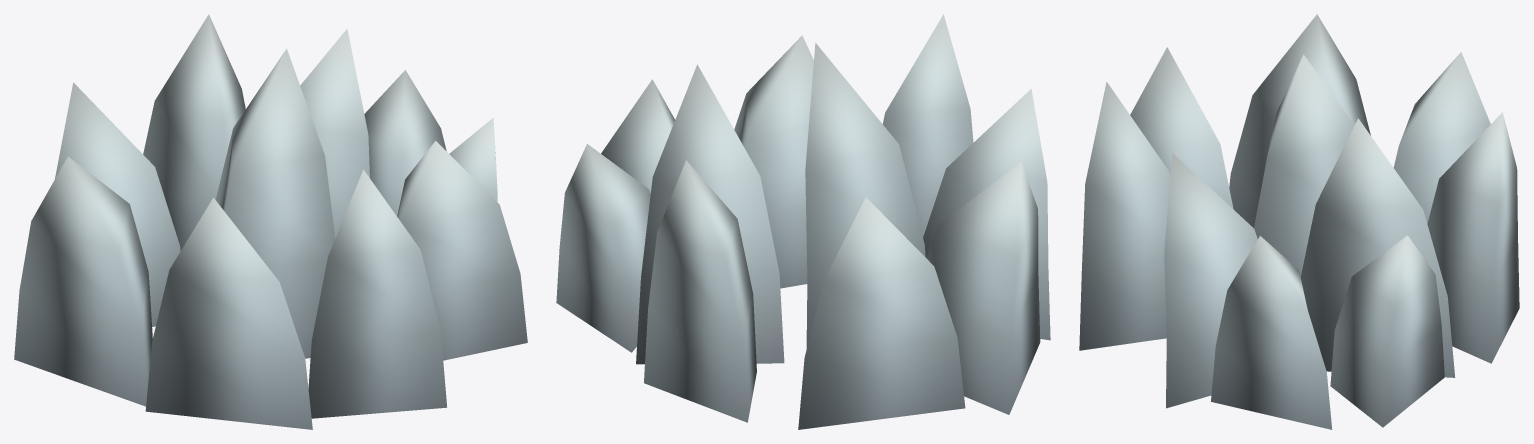
Rendered from TopGrass_Snow_TuftBig.fbx.
The picture shows the model from 3 angles, left to right: view 1: azimuth 30°, elevation 25°; view 2: azimuth 150°, elevation 25°; view 3: azimuth 270°, elevation 25°; orthographic projection. The views are drawn at different scales.
Visible parts, largest first — view 1: TopGrass_Snow_TuftBig_LOD0; view 2: TopGrass_Snow_TuftBig_LOD0; view 3: TopGrass_Snow_TuftBig_LOD0.
Part boxes in pixels (<box>): TopGrass_Snow_TuftBig_LOD0: <box>14,14,527,429</box>; TopGrass_Snow_TuftBig_LOD0: <box>556,14,1050,429</box>; TopGrass_Snow_TuftBig_LOD0: <box>1079,14,1519,429</box>.
Size of what is drawn, in the model's own units: 0.4644 by 0.2823 by 0.4051.
